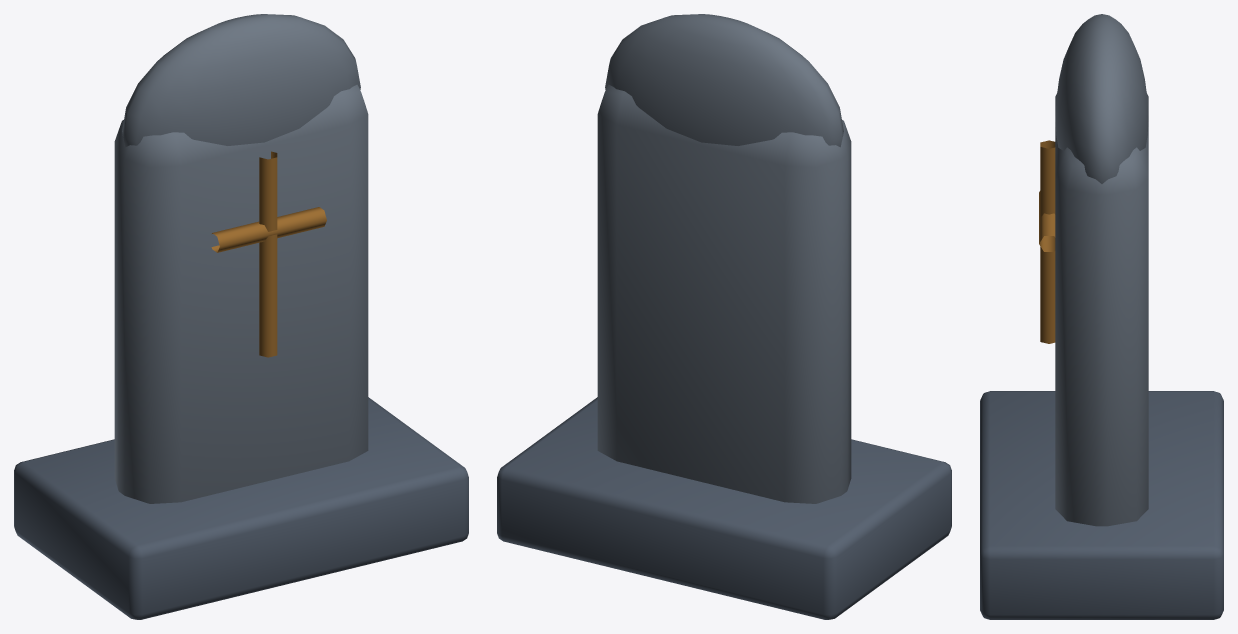
The model's file is prop-6-refined-v15.fbx.
3 views of the same model, side by side, from view 1: azimuth 30°, elevation 25°; view 2: azimuth 150°, elevation 25°; view 3: azimuth 270°, elevation 25° (orthographic).
Visible parts, largest first — view 1: Gravestone, GraveBase, GraveArch, CarvedCross, CrossArm; view 2: Gravestone, GraveBase, GraveArch; view 3: GraveBase, Gravestone, GraveArch, CarvedCross, CrossArm.
Part boxes in pixels (x1,y1,x2,y2): Gravestone: [114, 84, 368, 503]; GraveBase: [14, 397, 468, 619]; GraveArch: [122, 14, 360, 147]; CarvedCross: [259, 151, 277, 357]; CrossArm: [211, 207, 326, 252]; Gravestone: [597, 84, 851, 503]; GraveBase: [497, 397, 951, 619]; GraveArch: [605, 14, 843, 147]; GraveBase: [980, 391, 1223, 619]; Gravestone: [1055, 93, 1148, 526]; GraveArch: [1055, 14, 1148, 183]; CarvedCross: [1040, 140, 1055, 343]; CrossArm: [1039, 191, 1055, 251].
Size of the model in its own units: 95 by 139 by 60.
